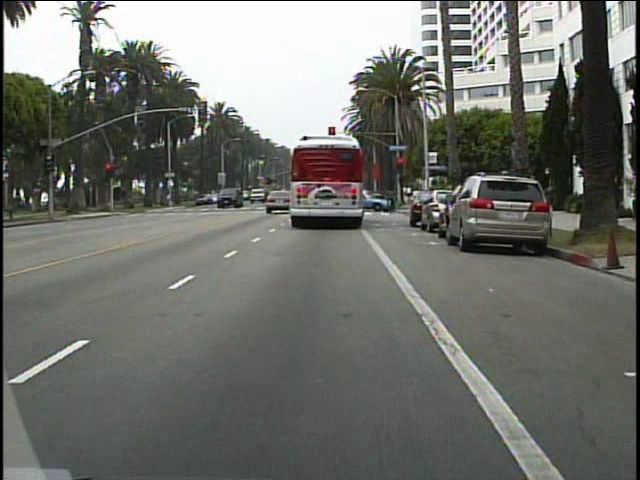person: (381, 186, 400, 217)
